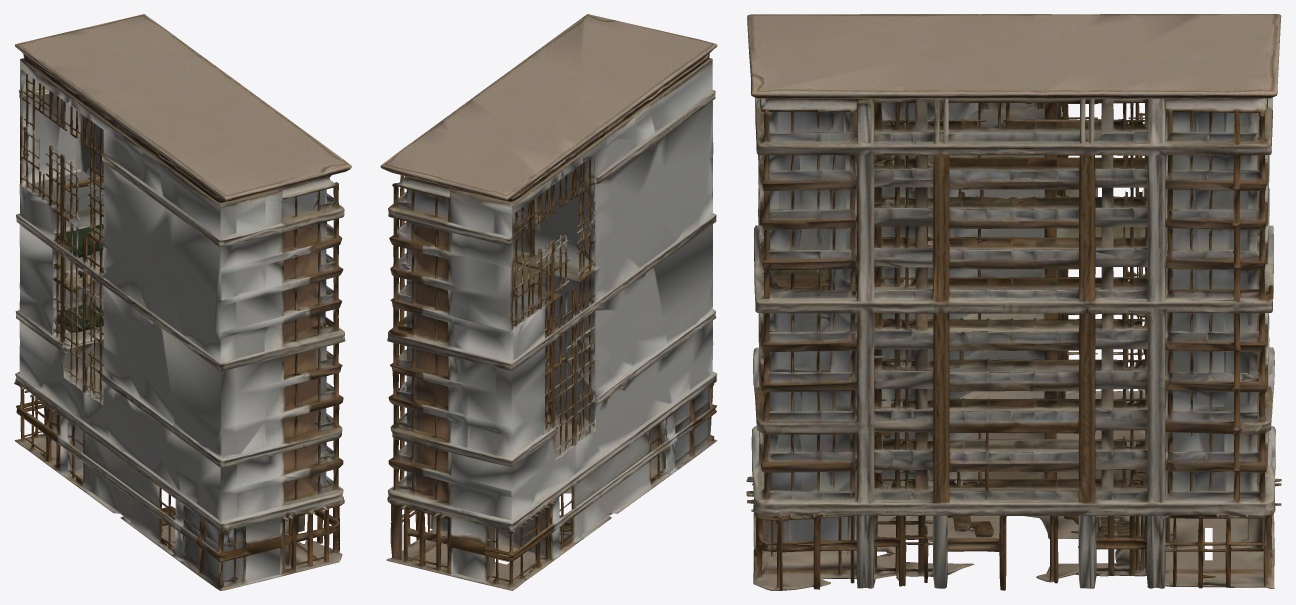
Rendered from tower-d.glb.
The picture shows the model from 3 angles, left to right: view 1: azimuth 30°, elevation 25°; view 2: azimuth 150°, elevation 25°; view 3: azimuth 270°, elevation 25°; orthographic projection. The views are drawn at different scales.
Visible parts, largest first — view 1: tripo_node_9b44291e-9896-44b9-b5b1-698cf7846110; view 2: tripo_node_9b44291e-9896-44b9-b5b1-698cf7846110; view 3: tripo_node_9b44291e-9896-44b9-b5b1-698cf7846110.
Boxes of the visible parts, x1=… form: tripo_node_9b44291e-9896-44b9-b5b1-698cf7846110: x1=14, y1=14, x2=351, y2=590; tripo_node_9b44291e-9896-44b9-b5b1-698cf7846110: x1=380, y1=14, x2=717, y2=590; tripo_node_9b44291e-9896-44b9-b5b1-698cf7846110: x1=746, y1=14, x2=1281, y2=590.
Bounding box in the file's own units: 0.8856 × 2.5 × 2.41.
1 material, 1 textured.
